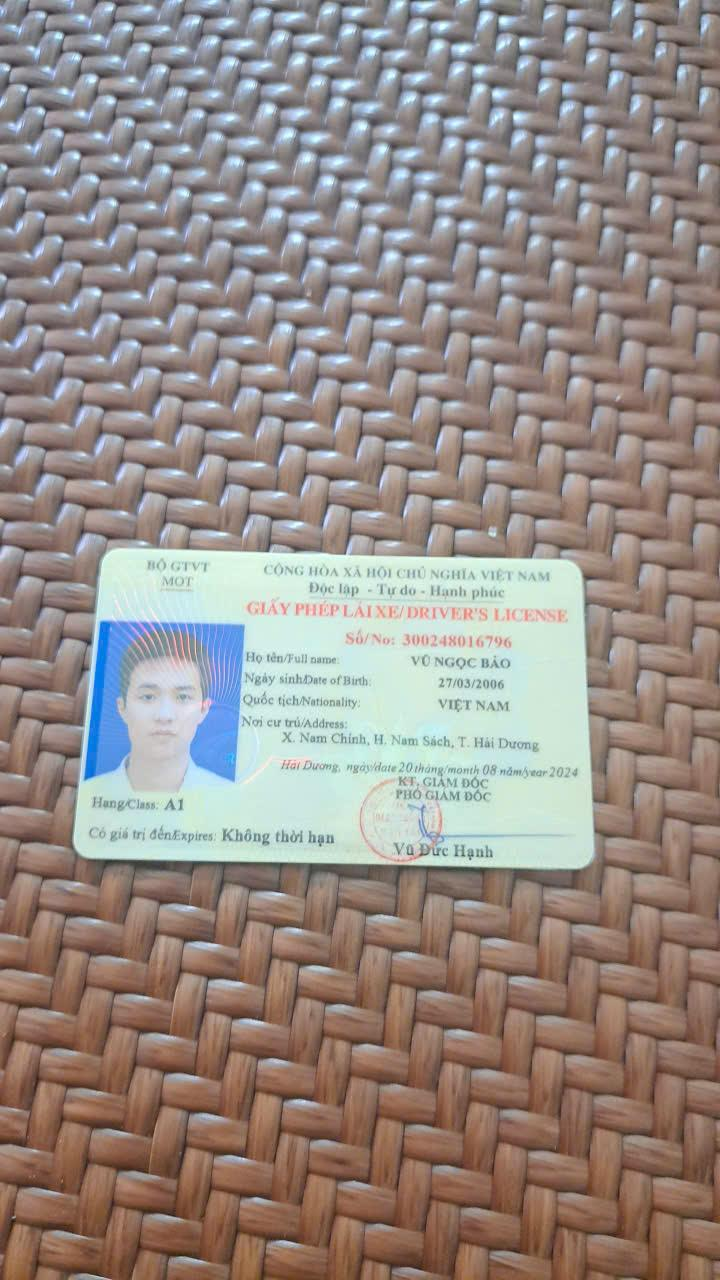gplx: (54, 537, 605, 875)
